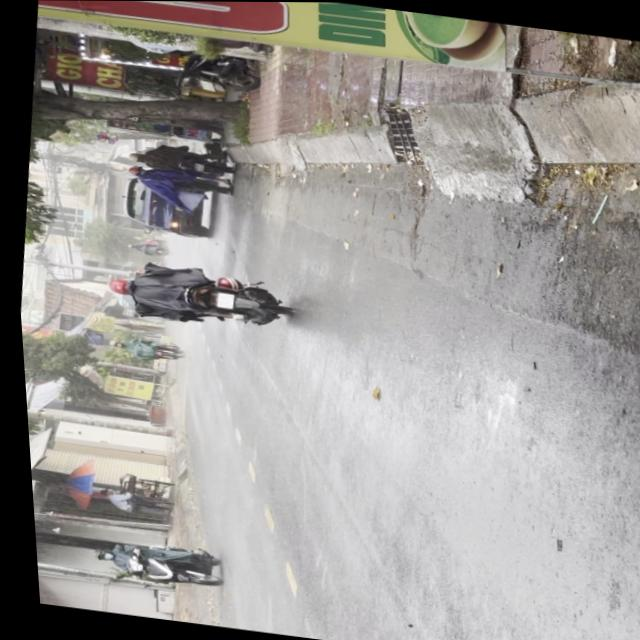helmet: (99, 277, 127, 296), (80, 549, 103, 562)
licenseplate: (95, 259, 291, 334), (76, 534, 217, 592)
nohelmet: (209, 291, 228, 308)
